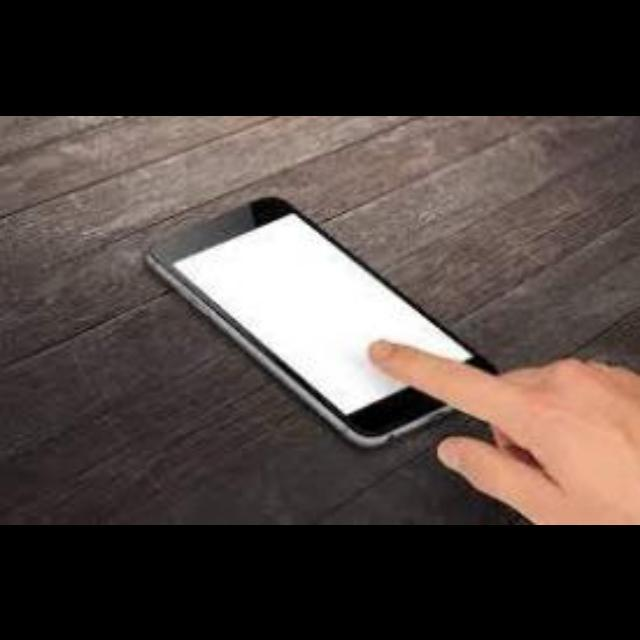Phone: (147, 194, 498, 446)
